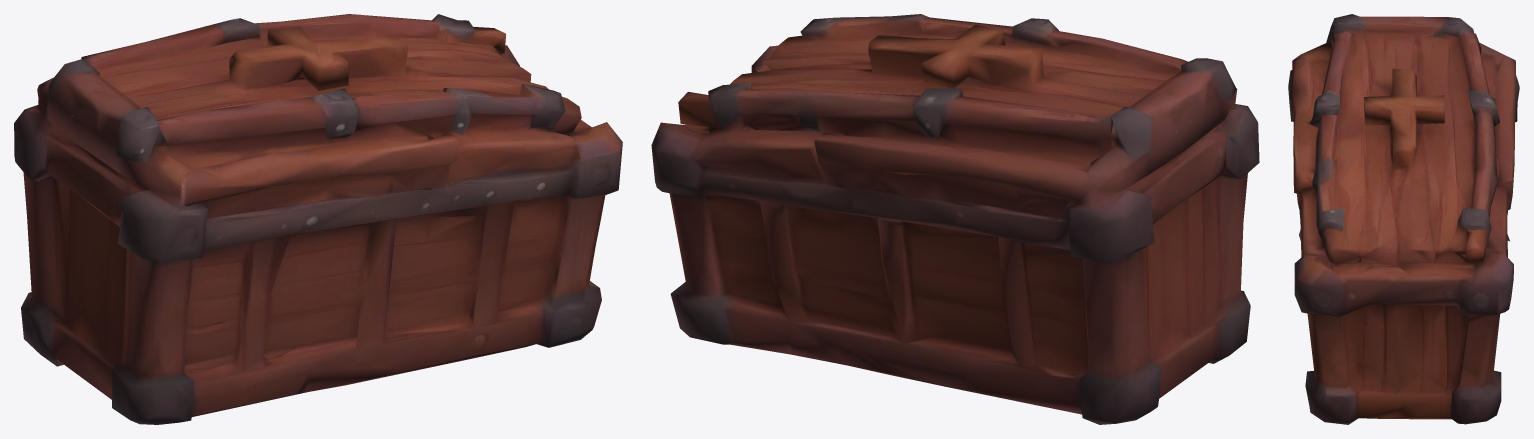
Rendered from pro_coffin-BaQnyDY0.glb.
3 views of the same model, side by side, from view 1: azimuth 30°, elevation 25°; view 2: azimuth 150°, elevation 25°; view 3: azimuth 270°, elevation 25° (orthographic). The views are drawn at different scales.
Visible parts, largest first — view 1: tripo_node_493abec2-b914-4803-b109-8d3c3766debb; view 2: tripo_node_493abec2-b914-4803-b109-8d3c3766debb; view 3: tripo_node_493abec2-b914-4803-b109-8d3c3766debb.
Part boxes in pixels (x1,y1,x2,y2): tripo_node_493abec2-b914-4803-b109-8d3c3766debb: (14,14,622,424); tripo_node_493abec2-b914-4803-b109-8d3c3766debb: (651,14,1259,424); tripo_node_493abec2-b914-4803-b109-8d3c3766debb: (1288,14,1519,424).
Size of the model in its own units: 1 by 0.6227 by 0.5309.
Materials: 1 (1 with a texture image).
